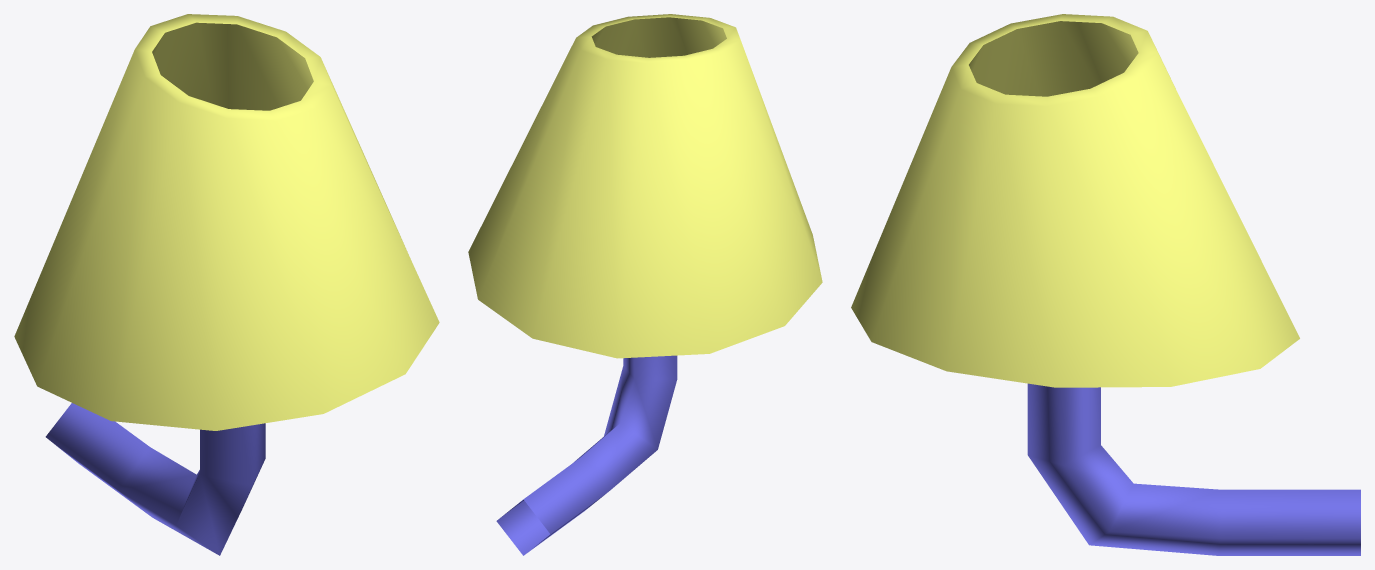
Rendered from lampWall.FBX.
3 views of the same model, side by side, from view 1: azimuth 30°, elevation 25°; view 2: azimuth 150°, elevation 25°; view 3: azimuth 270°, elevation 25° (orthographic). The views are drawn at different scales.
Visible parts, largest first — view 1: lampShade, lampWall; view 2: lampShade, lampWall; view 3: lampShade, lampWall.
Boxes of the visible parts, <box> form: lampShade: <box>14,14,439,430</box>; lampWall: <box>45,403,265,555</box>; lampShade: <box>468,14,822,358</box>; lampWall: <box>496,355,677,555</box>; lampShade: <box>851,14,1299,387</box>; lampWall: <box>1027,383,1360,555</box>.
Bounding box in the file's own units: 1.8 × 2.53 × 2.3.
